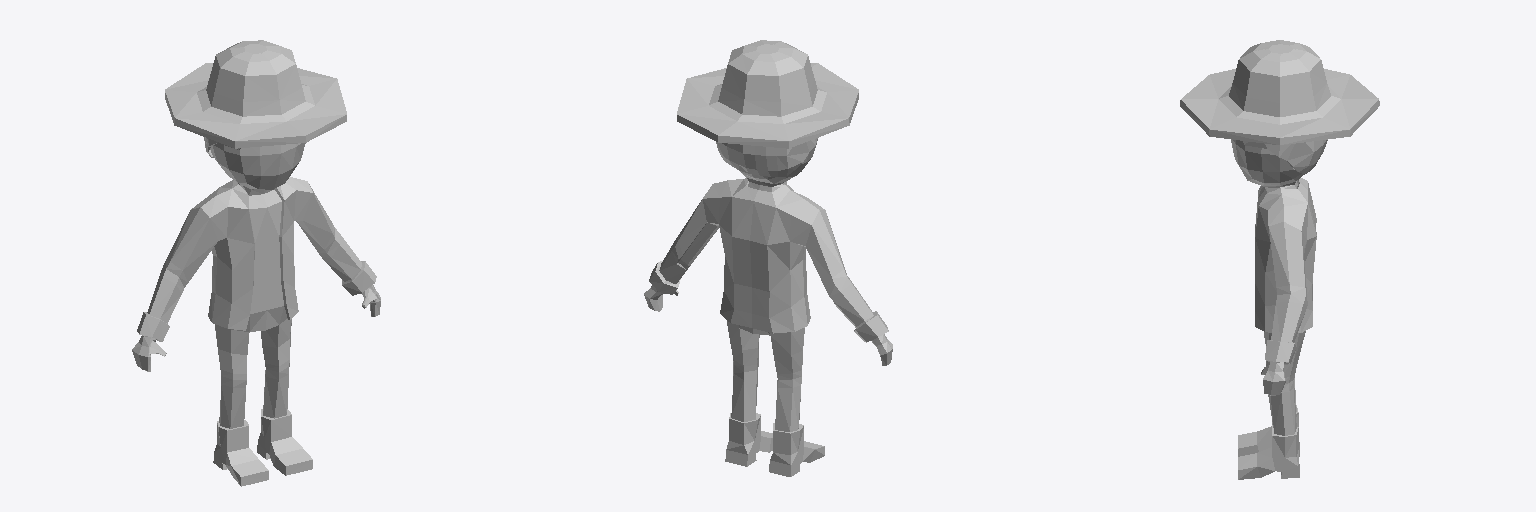
Rendered from cowboyTest.obj.
3 views of the same model, side by side, from view 1: azimuth 30°, elevation 25°; view 2: azimuth 150°, elevation 25°; view 3: azimuth 270°, elevation 25° (orthographic).
Visible parts, largest first — view 1: Cube.001_Cube.002; view 2: Cube.001_Cube.002; view 3: Cube.001_Cube.002.
Boxes of the visible parts, x1,y1,x2,y2 form: Cube.001_Cube.002: [132, 40, 380, 486]; Cube.001_Cube.002: [644, 40, 892, 476]; Cube.001_Cube.002: [1180, 40, 1379, 479].
Size of the model in its own units: 9.7 by 15.75 by 6.88.